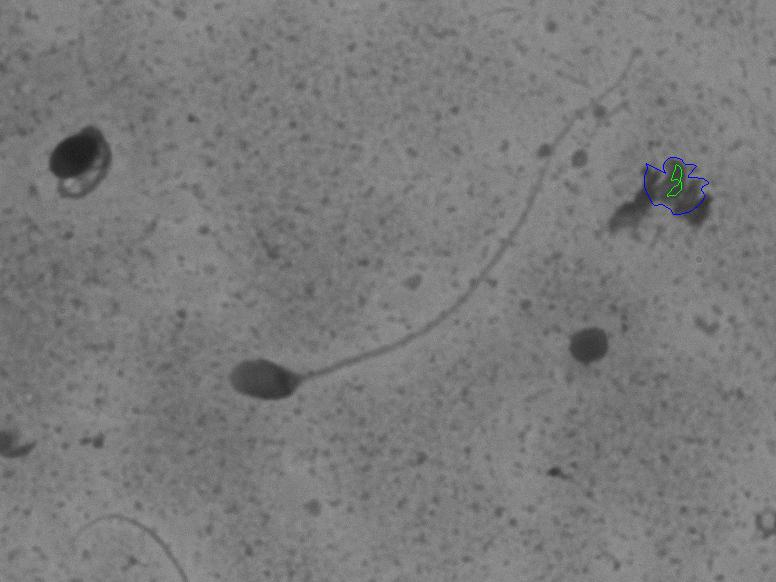Abnormal: (204, 110, 573, 430), (17, 89, 150, 226)
